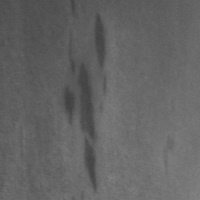inclusion: (62, 9, 109, 195), (87, 4, 113, 76), (159, 132, 180, 175), (59, 83, 78, 129)
